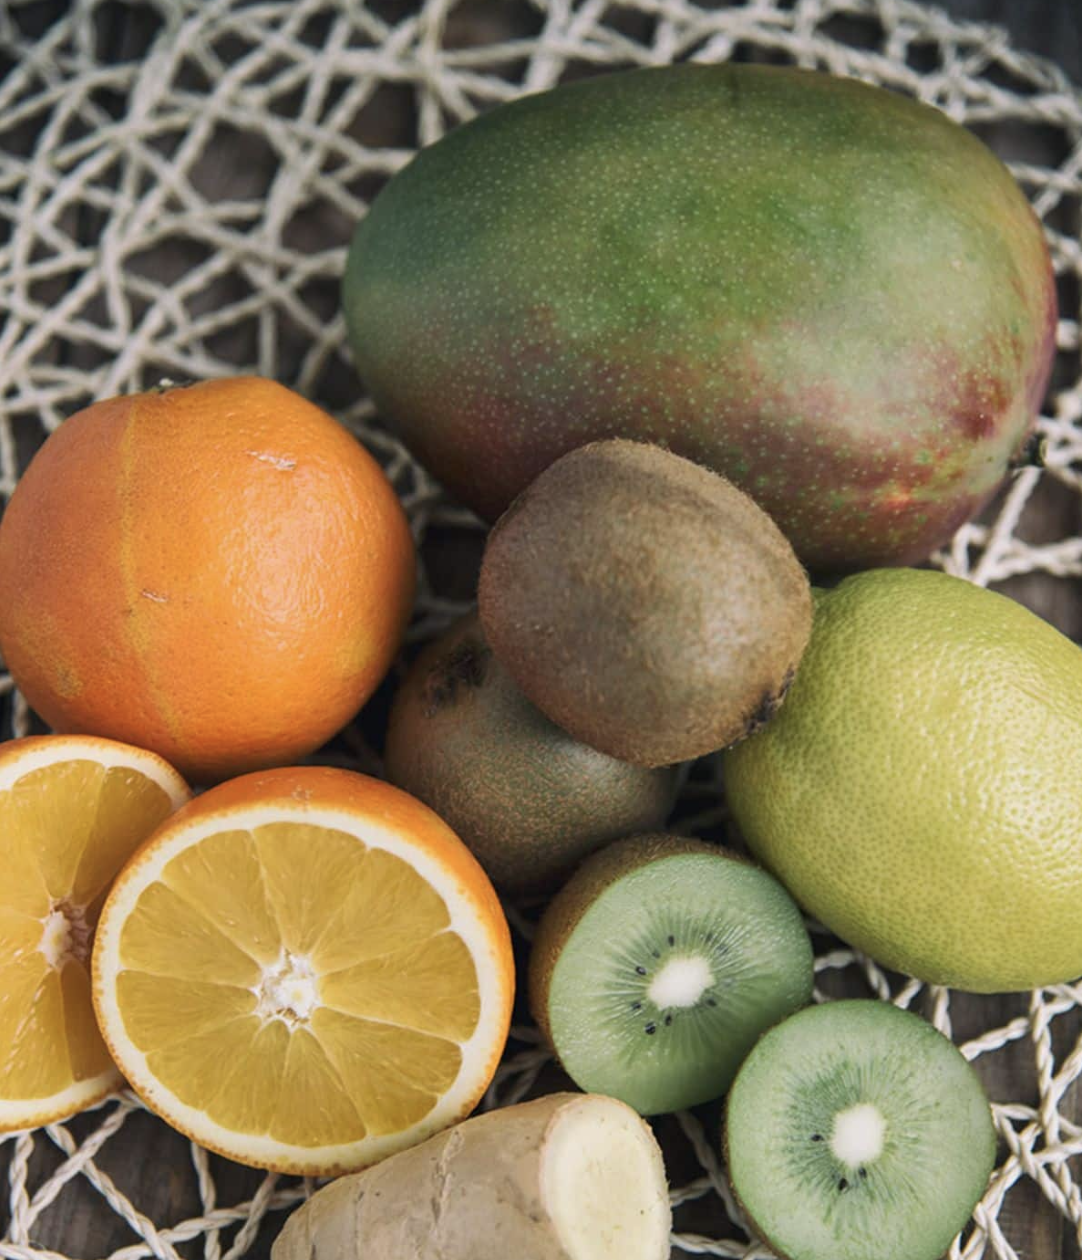kiwi: (265, 54, 1082, 569), (480, 424, 808, 770)
orange: (0, 362, 427, 766)
